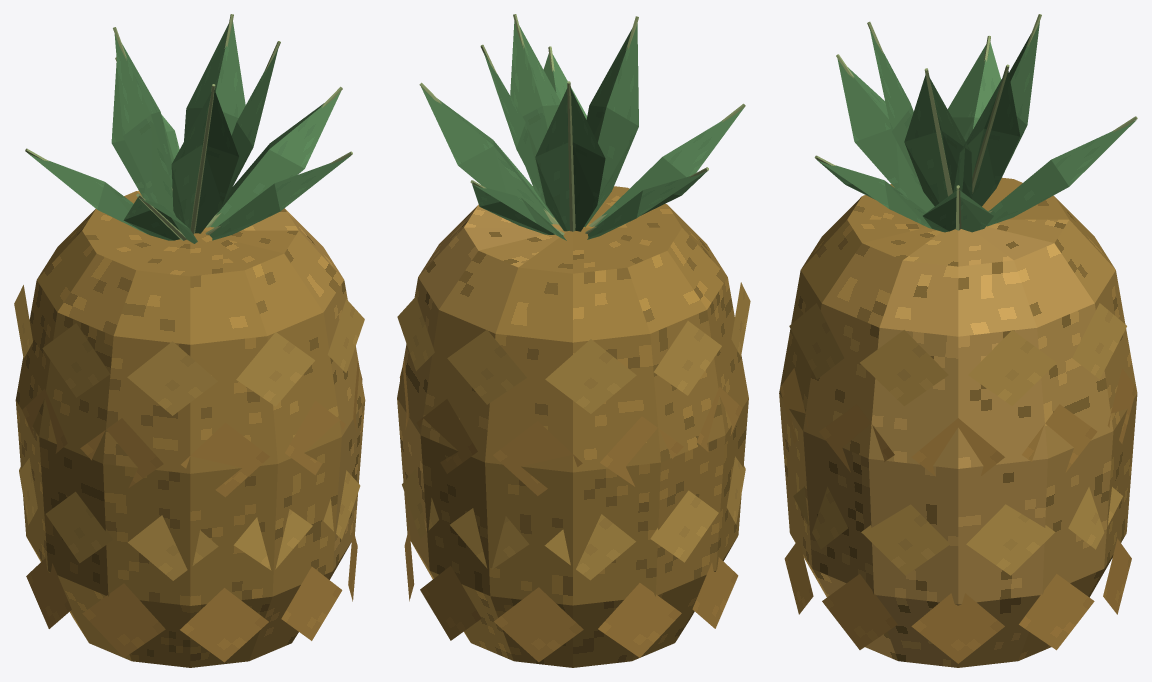
The model's file is pineapple.glb.
3 views of the same model, side by side, from view 1: azimuth 30°, elevation 25°; view 2: azimuth 150°, elevation 25°; view 3: azimuth 270°, elevation 25° (orthographic). The views are drawn at different scales.
Visible parts, largest first — view 1: block_oval pineapple skin, block_pineapple eye (×18), block_spear-shaped crown blade (×10), block_spear-shaped crown tip (×10), block_spear-shaped crown vein; view 2: block_oval pineapple skin, block_pineapple eye (×18), block_spear-shaped crown tip (×11), block_spear-shaped crown blade (×9), block_spear-shaped crown vein; view 3: block_oval pineapple skin, block_pineapple eye (×18), block_spear-shaped crown blade (×10), block_spear-shaped crown tip (×10), block_spear-shaped crown vein (×2).
Part boxes in pixels (box(x1,y1,x2,y2)): block_oval pineapple skin: box(15, 190, 365, 667); block_pineapple eye (×18): box(14, 285, 364, 662); block_spear-shaped crown blade (×10): box(97, 111, 304, 240); block_spear-shaped crown tip (×10): box(27, 22, 351, 211); block_spear-shaped crown vein: box(190, 84, 215, 234); block_oval pineapple skin: box(397, 186, 748, 667); block_pineapple eye (×18): box(397, 282, 750, 662); block_spear-shaped crown tip (×11): box(421, 21, 744, 223); block_spear-shaped crown blade (×9): box(458, 106, 685, 239); block_spear-shaped crown vein: box(567, 81, 575, 231); block_oval pineapple skin: box(779, 177, 1137, 667); block_pineapple eye (×18): box(780, 303, 1136, 663); block_spear-shaped crown blade (×10): box(855, 106, 1068, 232); block_spear-shaped crown tip (×10): box(817, 21, 1136, 208); block_spear-shaped crown vein (×2): box(924, 64, 1009, 196).
Bounding box in the file's own units: 0.1357 × 0.2423 × 0.1346.
Materials: 2 (2 with a texture image).
